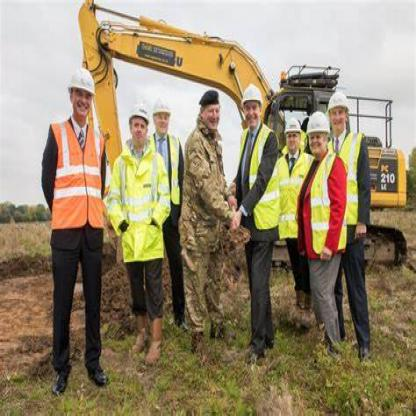person: (35, 52, 107, 402), (170, 43, 231, 362), (296, 88, 362, 378), (112, 87, 164, 372), (240, 75, 276, 363)
